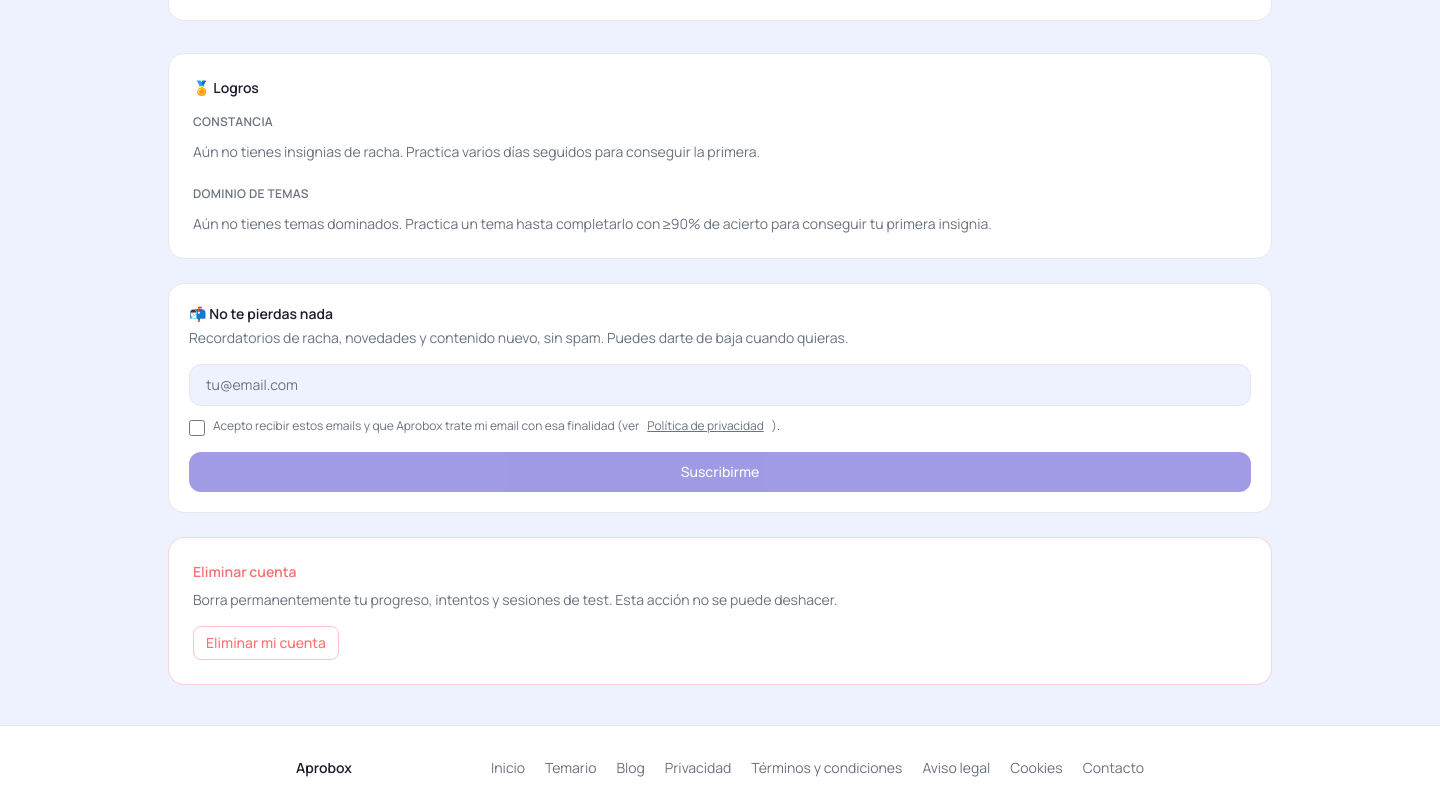
Test: Perfil — eliminar cuenta › muestra un error y no cierra sesión si el borrado falla
(page scrolled)
Click the button "Eliminar mi cuenta": (266, 643) [193,626,339,660]
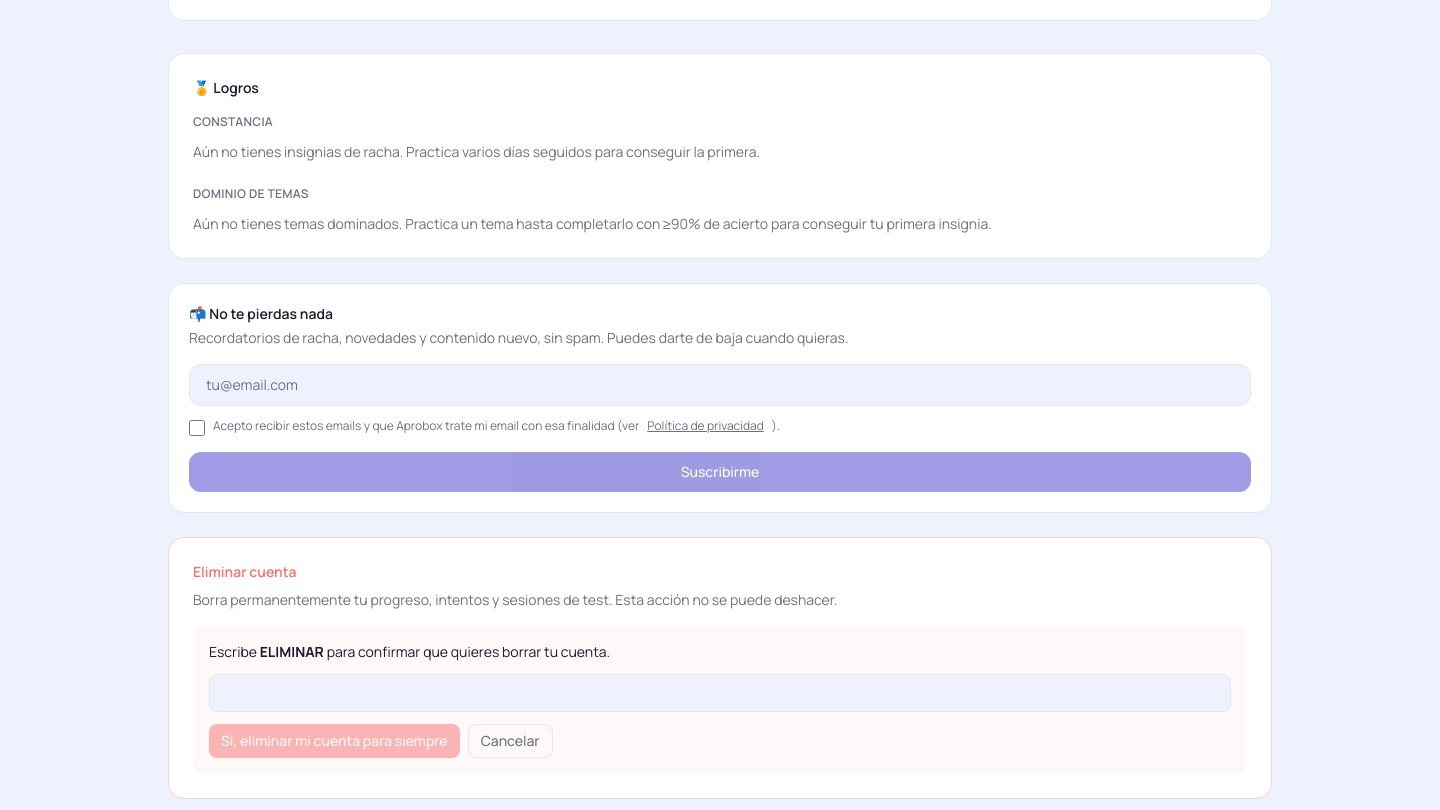
In the field labelled "Escribe": (720, 693) [209,674,1231,712], type "ELIMINAR"
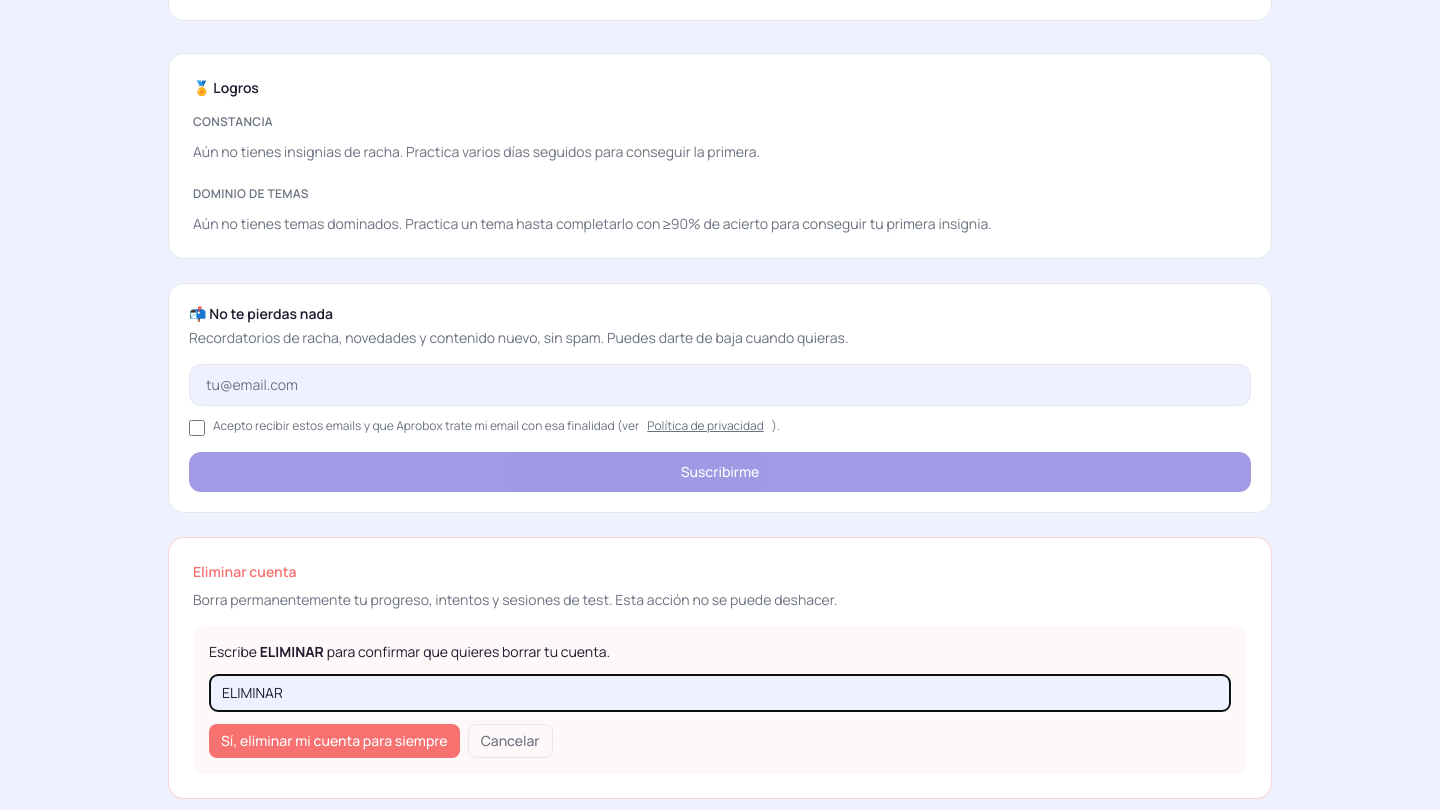
Click the button "Sí, eliminar mi cuenta para siempre": (334, 741) [209,724,460,758]
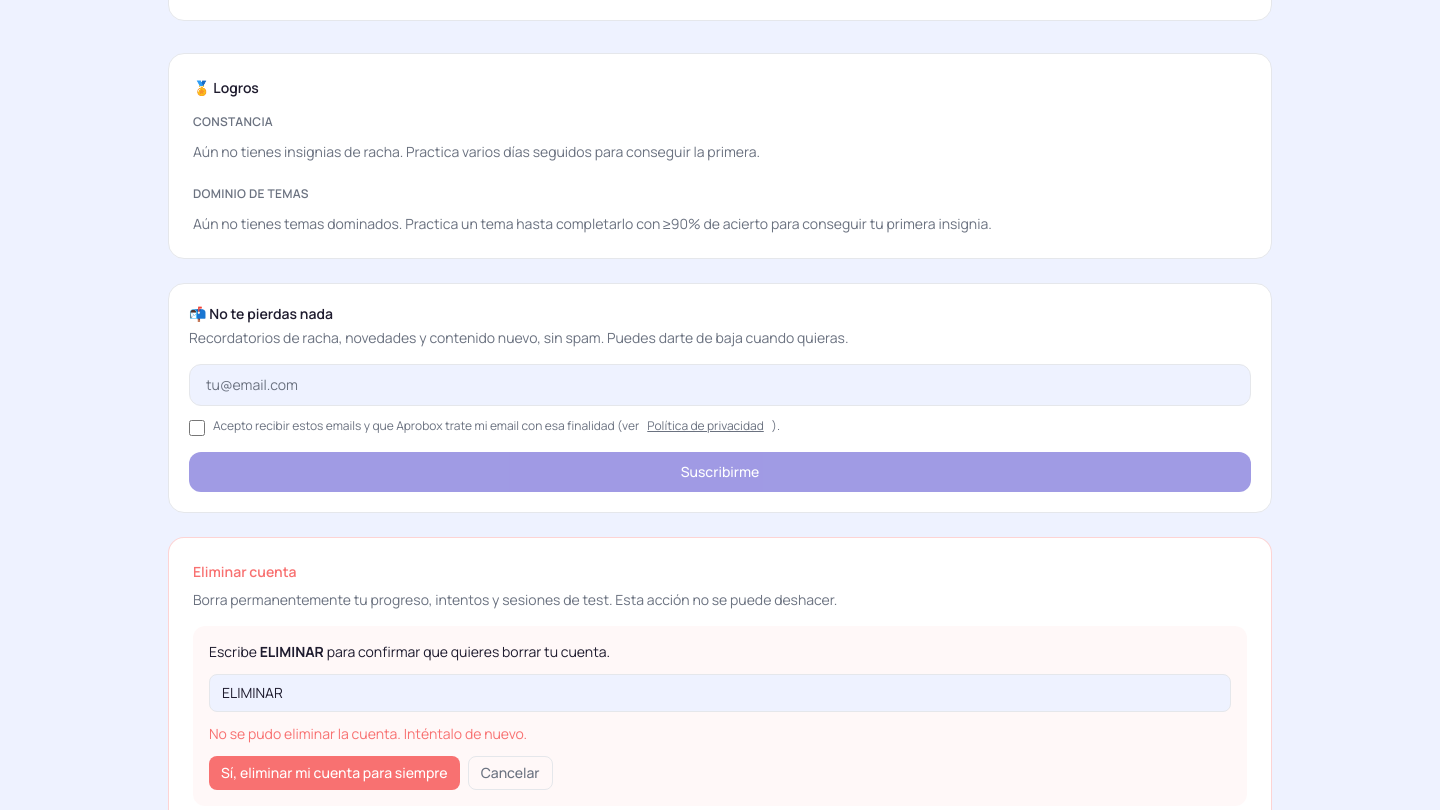
Result: the text "No se pudo eliminar la cuenta. Inténtalo de nuevo." is shown at [209,724,527,743]
